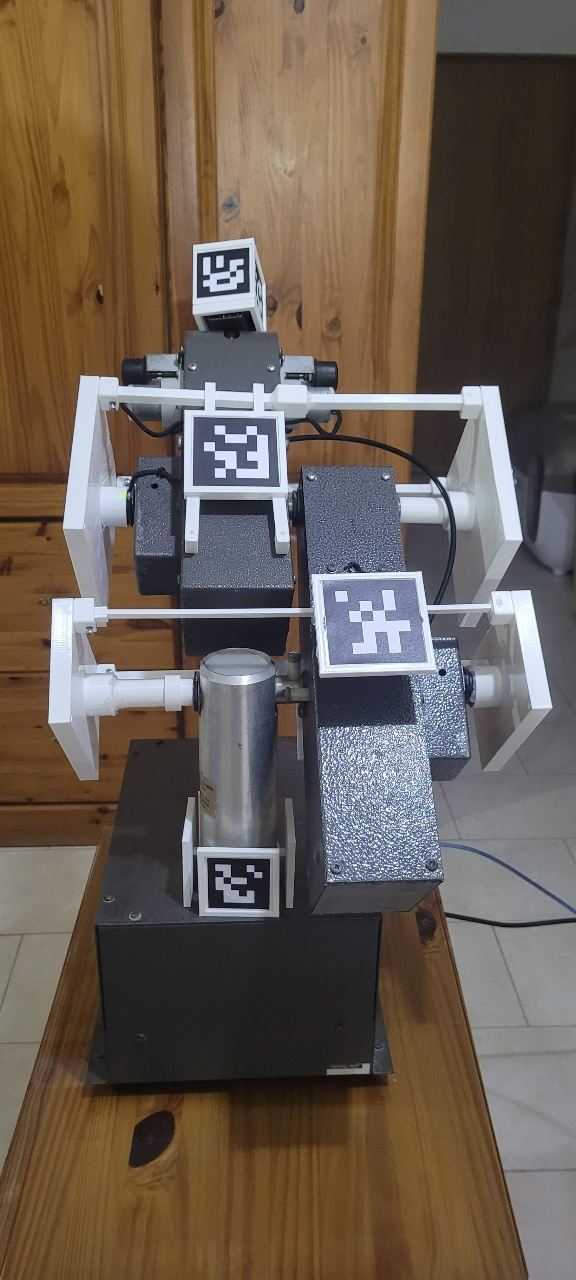Robot: (45, 236, 555, 921)
